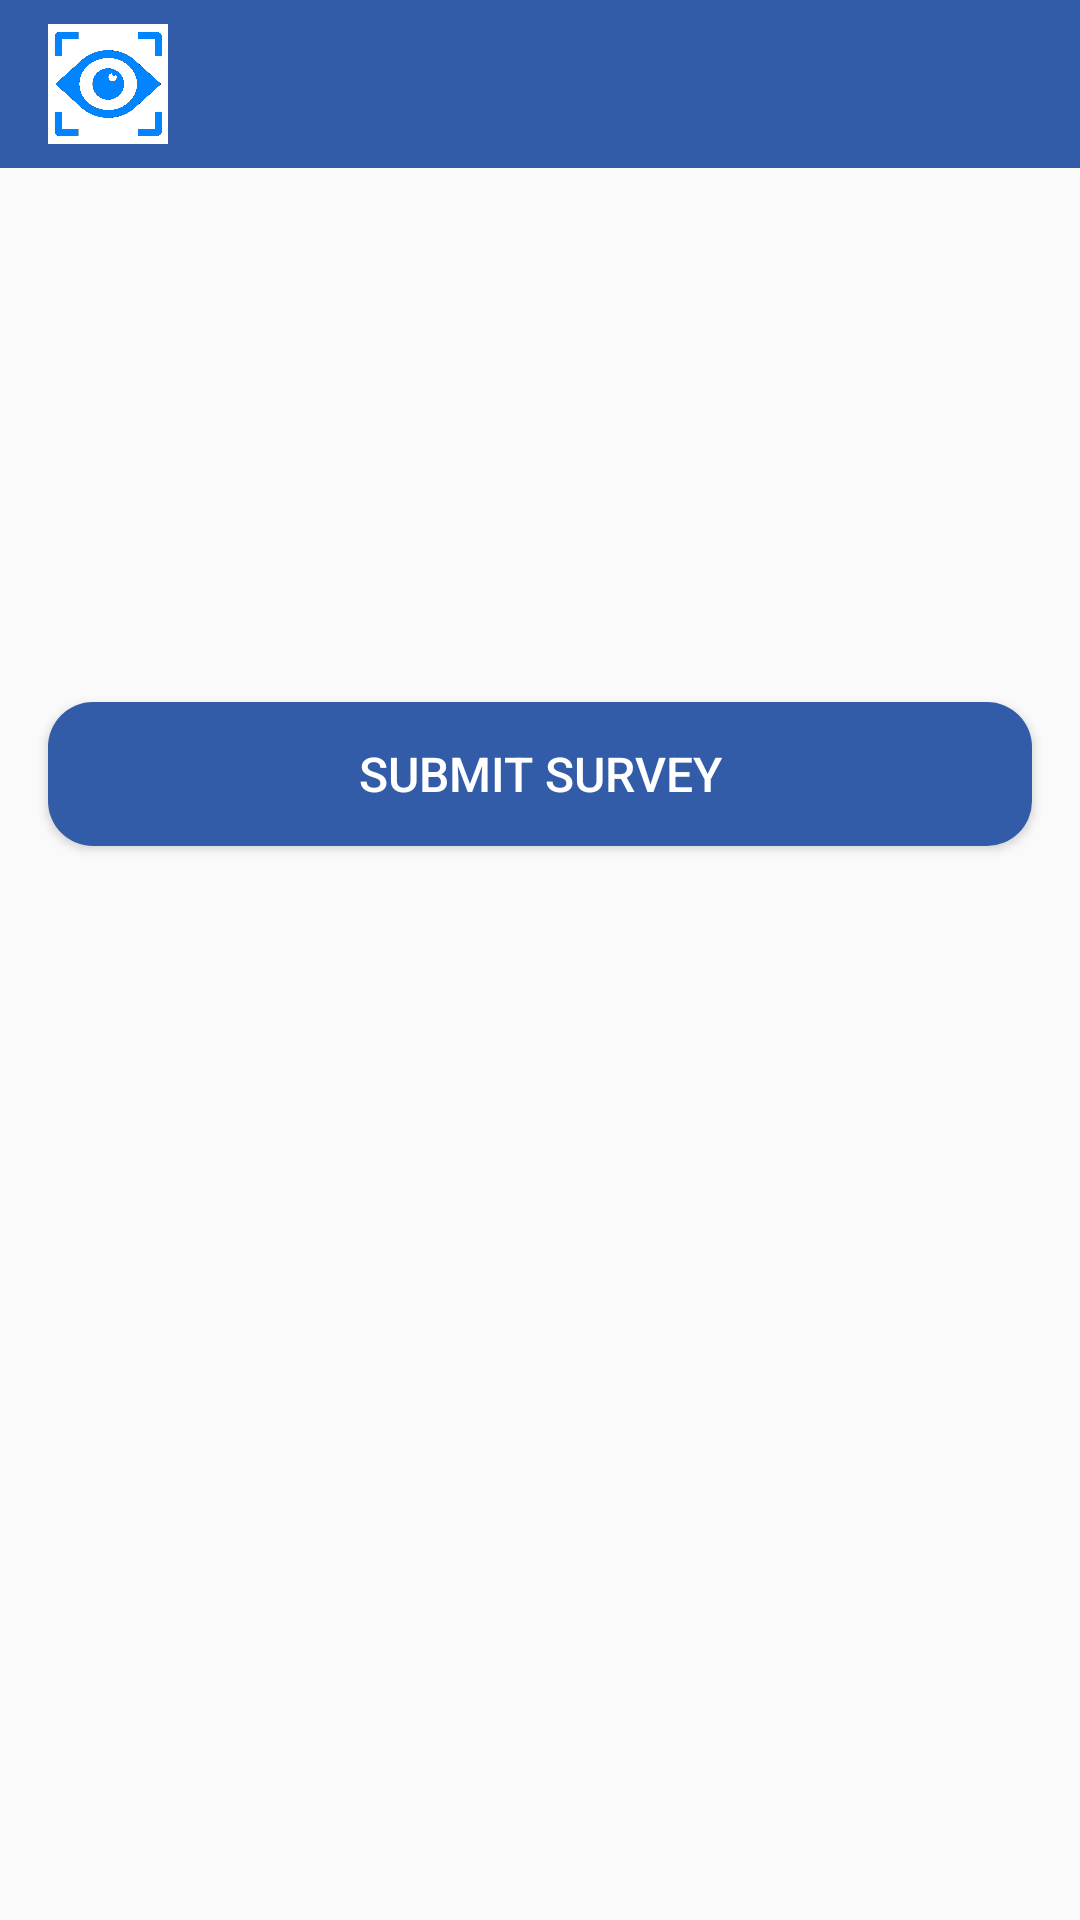

Locate icon controls on the screen. Image size 1080 x 1920, boxes as (x1, y1, x2, y2).
eye: (48, 24, 168, 144)
